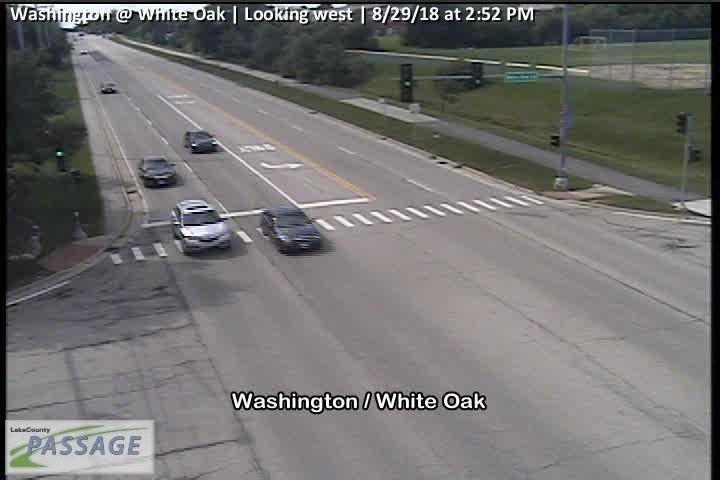SUV: (168, 198, 232, 256)
Sedan: (260, 206, 325, 255), (137, 154, 178, 190), (183, 128, 219, 156), (100, 81, 117, 94), (78, 47, 89, 55)
